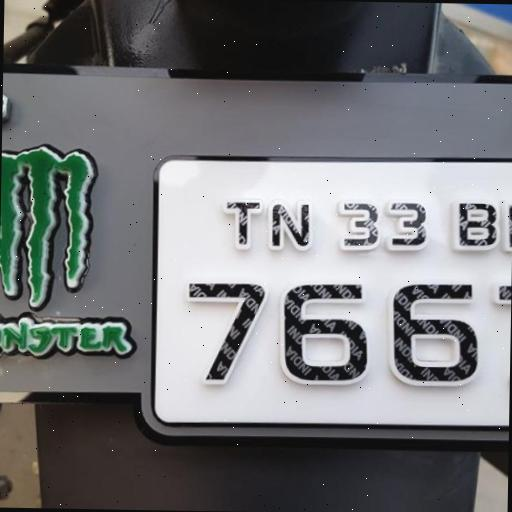number plate: (151, 155, 512, 438)
